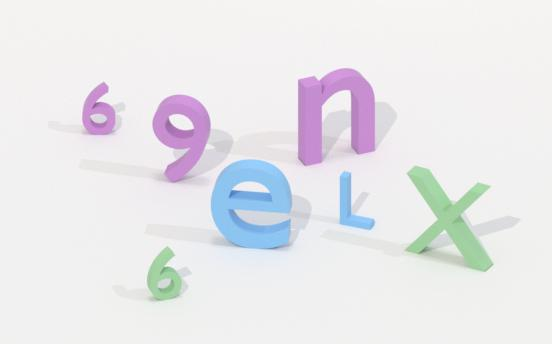6: (147, 242, 184, 303), (80, 79, 118, 138)
9: (150, 90, 212, 184)
e: (211, 157, 294, 249)
l: (336, 170, 377, 233)
n: (294, 66, 378, 167)
x: (404, 163, 496, 274)
